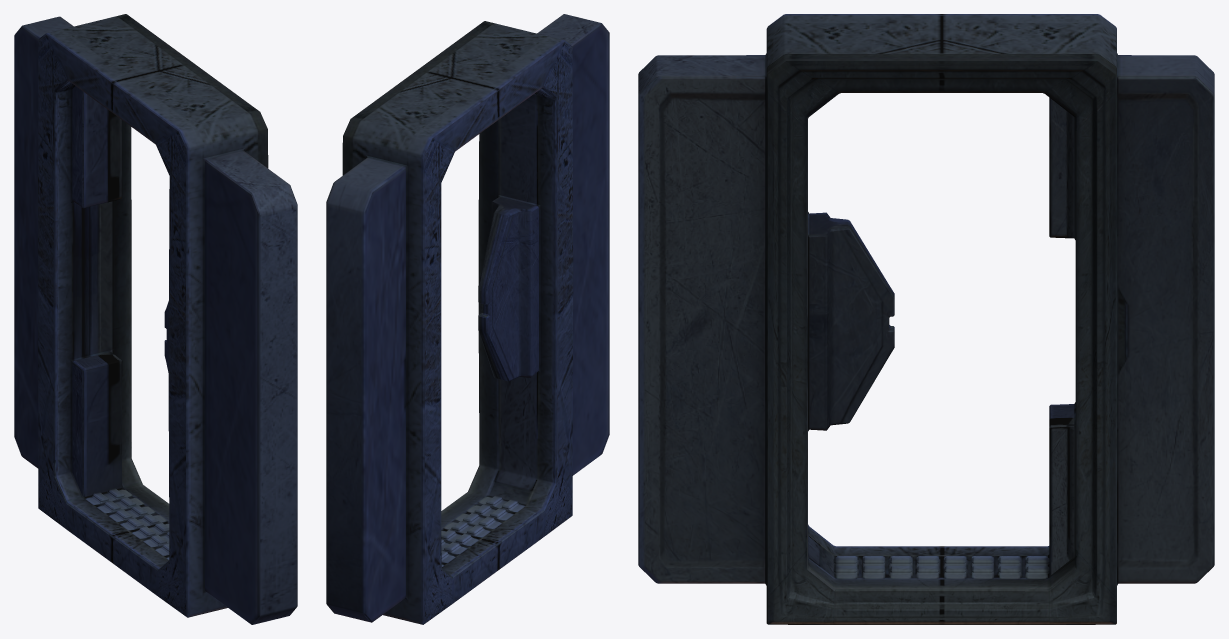
Rendered from Door.fbx.
3 views of the same model, side by side, from view 1: azimuth 30°, elevation 25°; view 2: azimuth 150°, elevation 25°; view 3: azimuth 270°, elevation 25° (orthographic). The views are drawn at different scales.
Visible parts, largest first — view 1: Door; view 2: Door; view 3: Door.
Part boxes in pixels (bbox=[...]): Door: bbox=[14, 14, 297, 624]; Door: bbox=[326, 14, 609, 624]; Door: bbox=[638, 14, 1214, 624].
Size of the model in its own units: 49.05 by 269 by 249.
